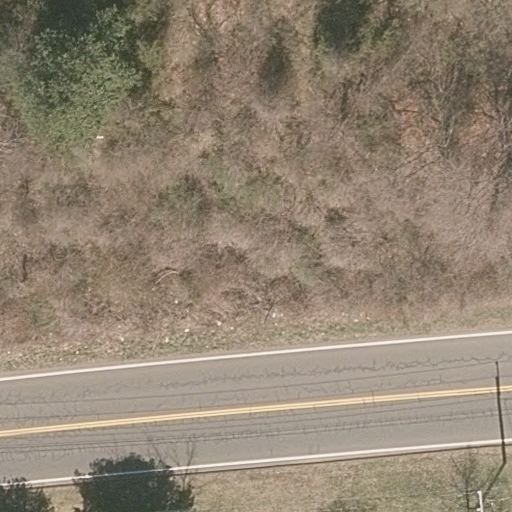DT: (474, 460, 507, 512)
